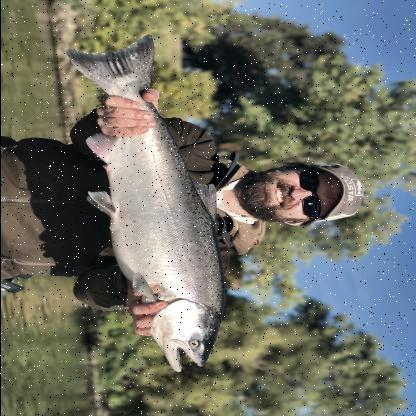fish: (65, 36, 223, 374)
